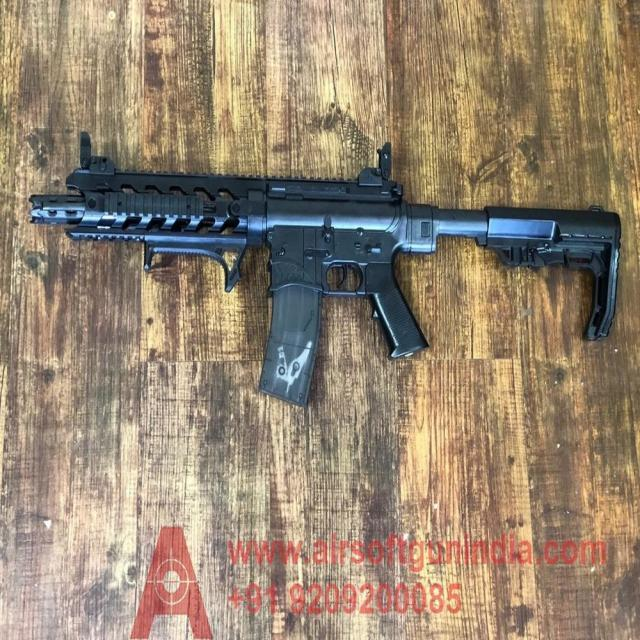rifle: (31, 121, 640, 438)
